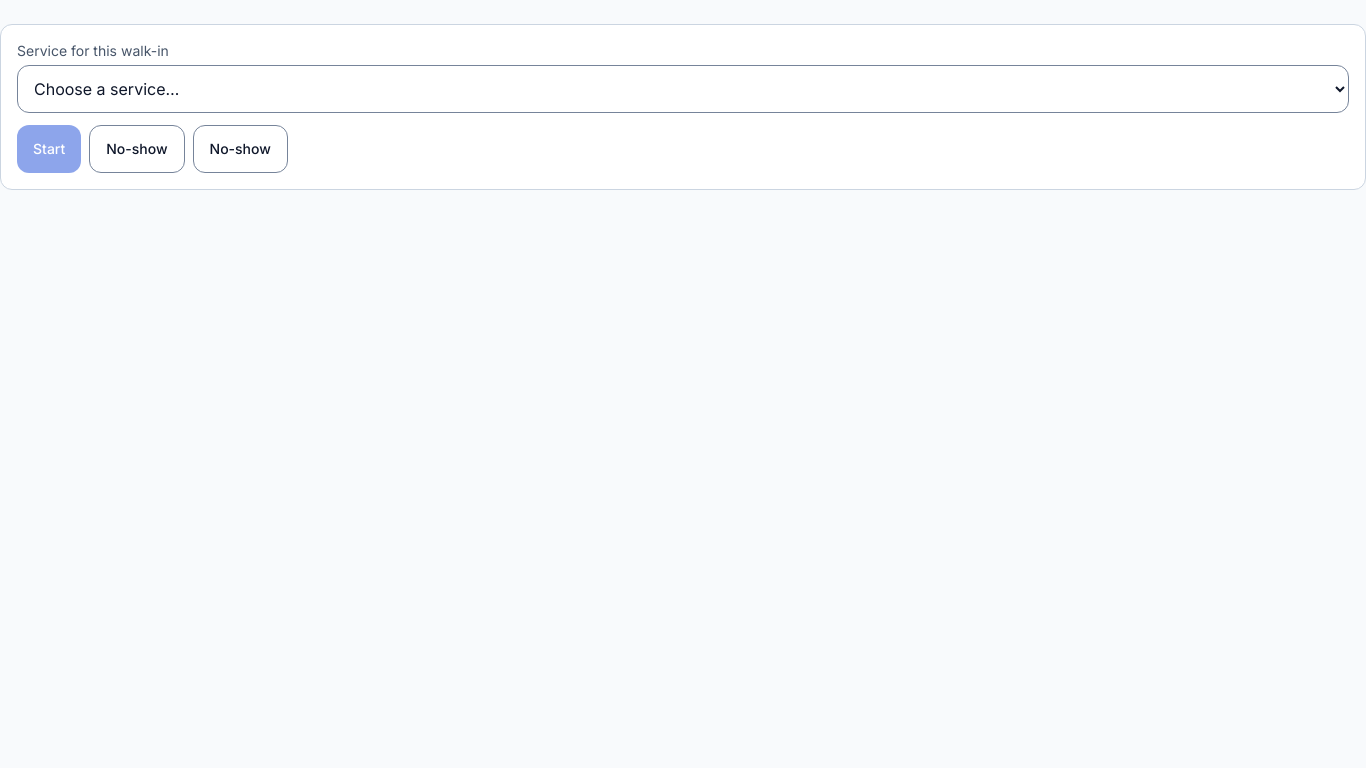
Test: the action bar's other rules › the last skip is labelled No-show and confirmed
What coordinates should you click on to do the following:
click the 1st button "No-show"
I would click on:
 (137, 149)
Its box is [89,125,185,173].
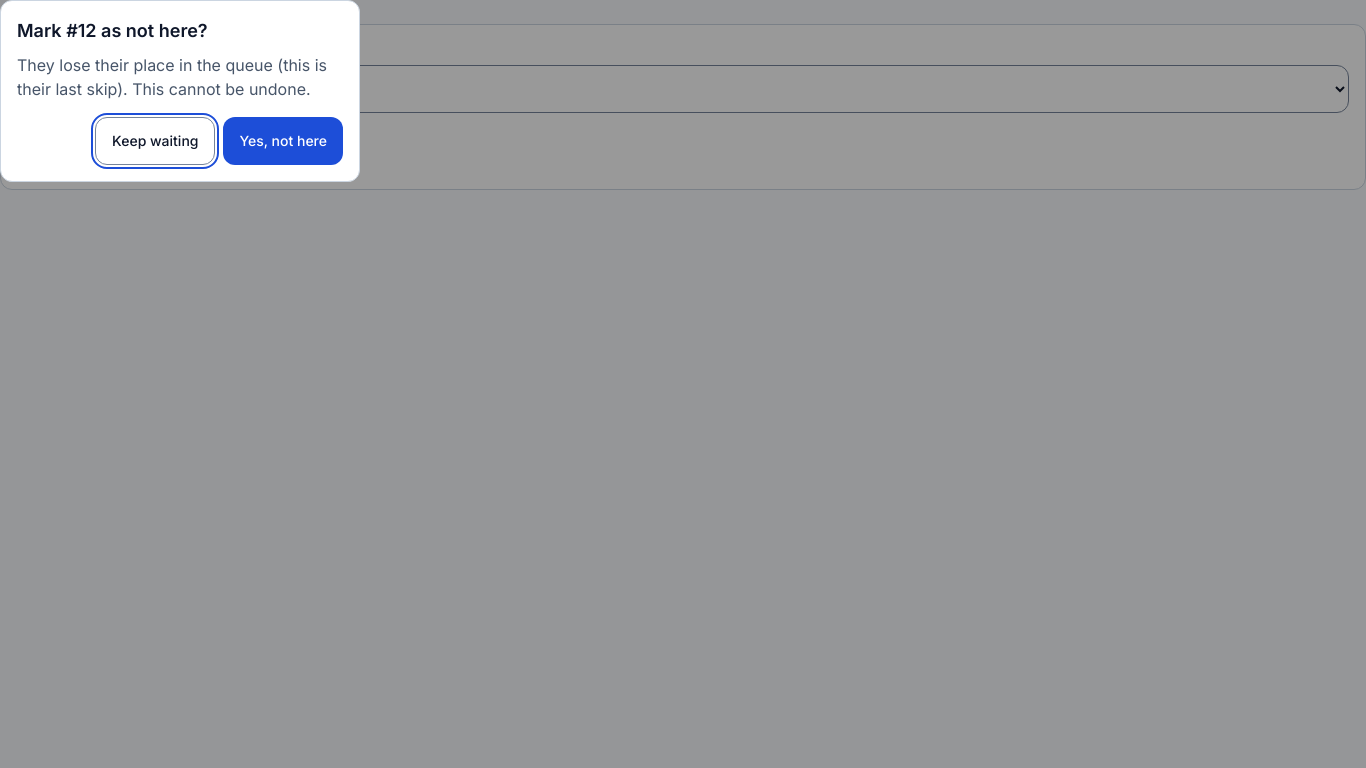
Now the dialog is shown, box [0,0,360,182]
